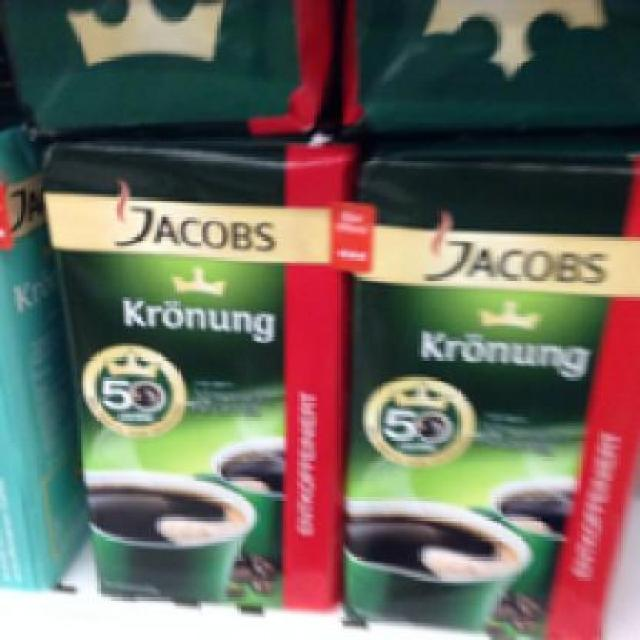Coffee: (29, 137, 340, 606), (343, 154, 634, 637)
